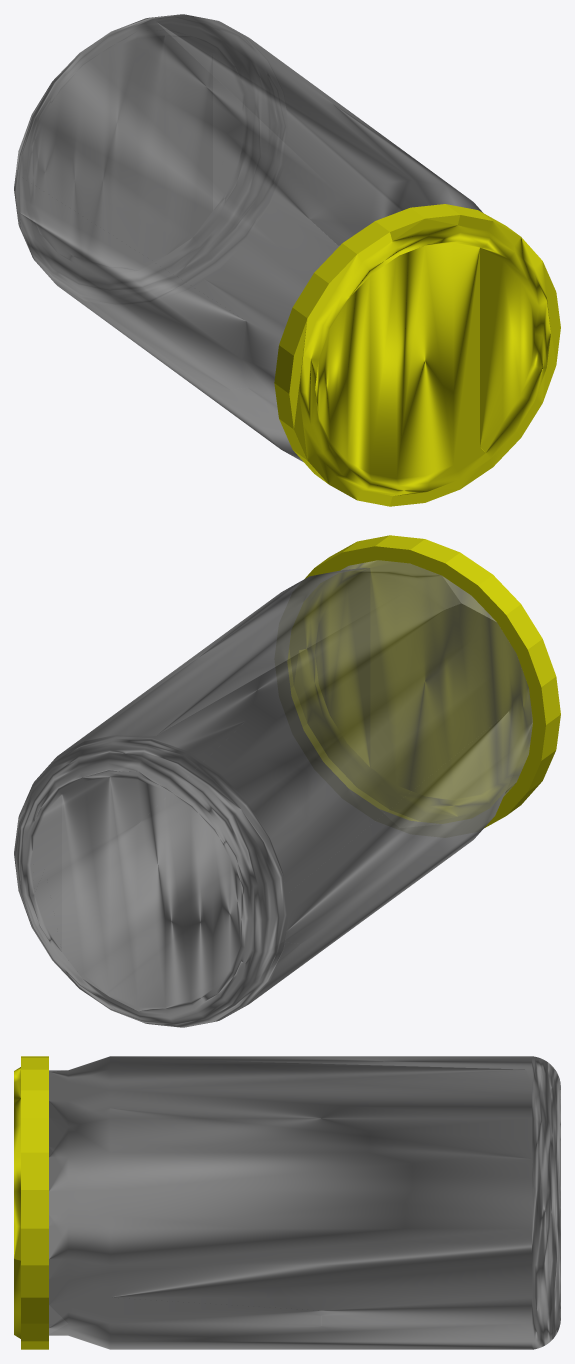
The model's file is model_align.obj.
The picture shows the model from 3 angles, top to bottom: view 1: azimuth 30°, elevation 25°; view 2: azimuth 150°, elevation 25°; view 3: azimuth 270°, elevation 25°; orthographic projection. The views are drawn at different scales.
Bounding box in the file's own units: 0.1129 × 0.1129 × 0.2096.
